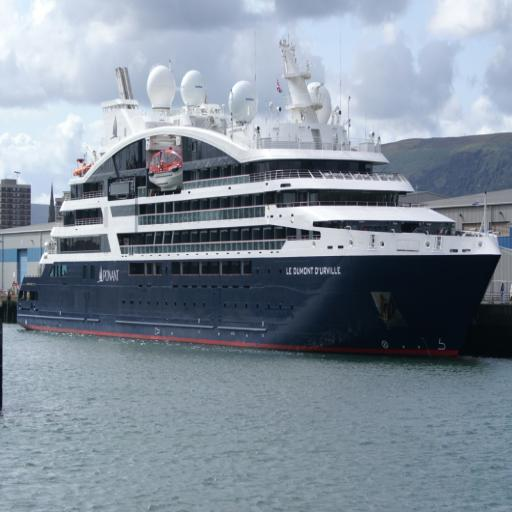cruises: (17, 40, 503, 367)
